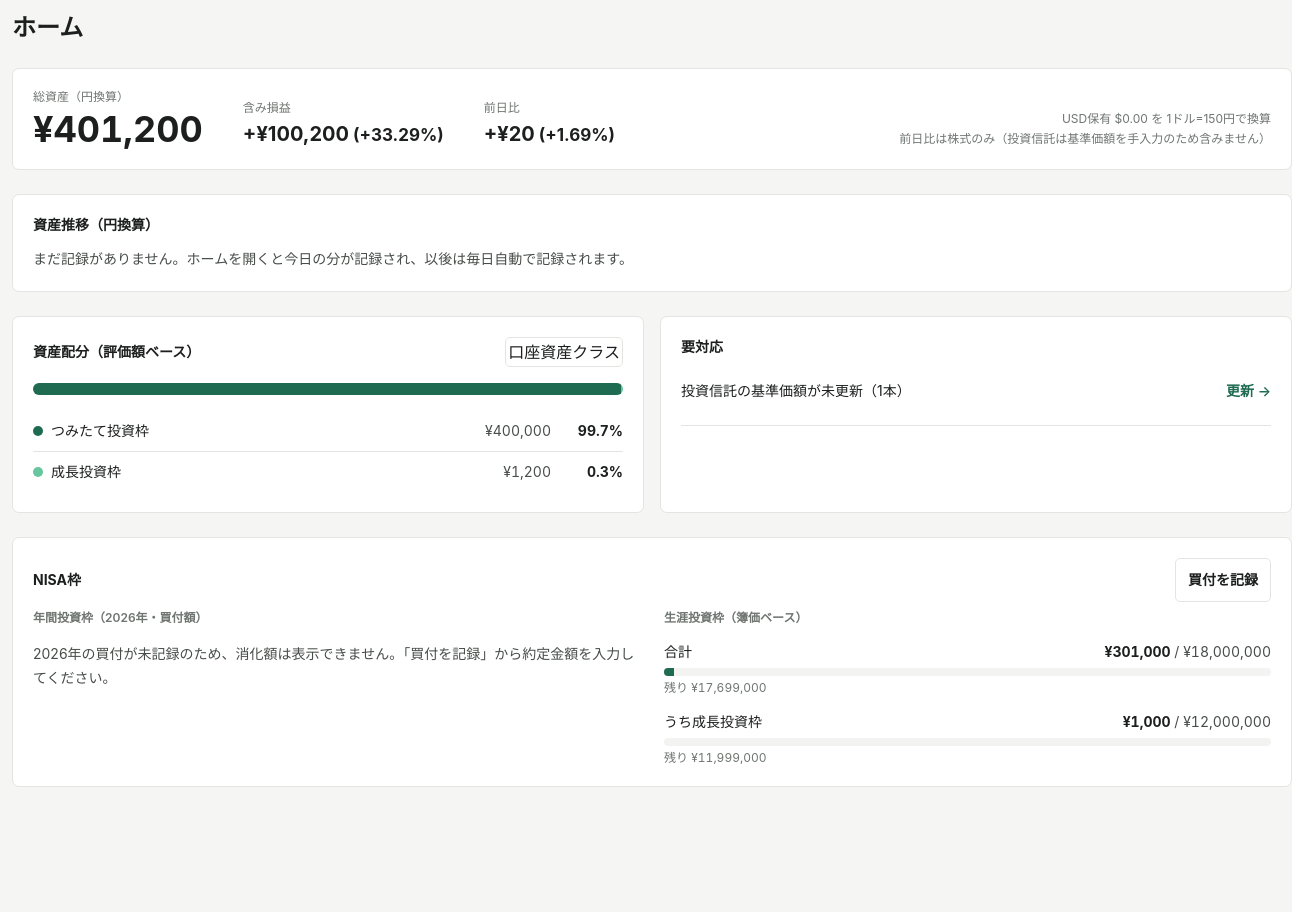
Test: HomeDashboard (Phase 2) › allocates by market value (not by count) and switches between account and asset class
Expected: the text "つみたて投資枠" is shown, [51,421,149,441]
Expected: the text "99.7%" is shown, [578,422,623,439]
Step 1. Click the button "資産クラス" → (580, 352), box [540,340,620,364]
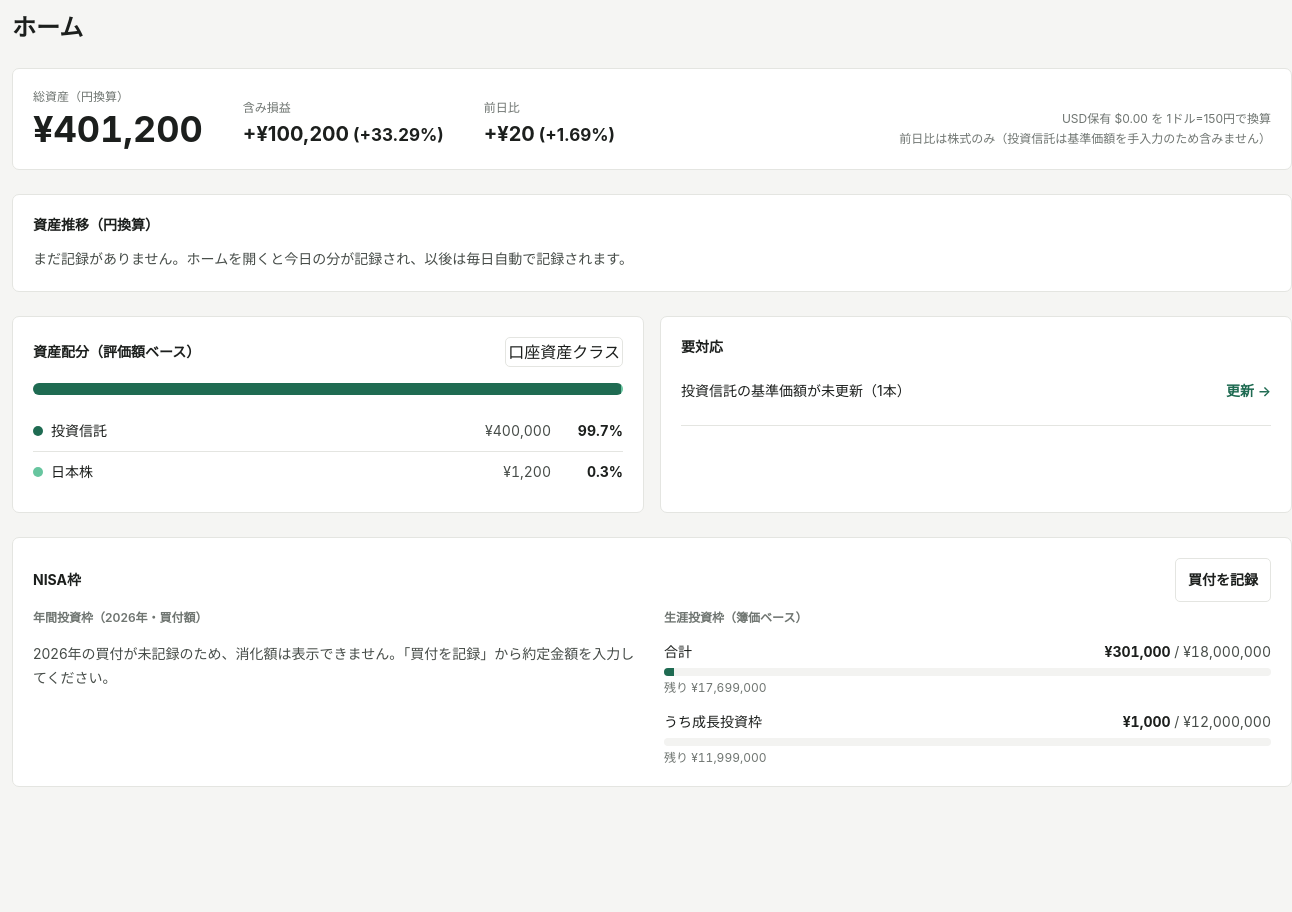
Result: the text "投資信託" is shown at [51,421,107,441]
Result: the text "日本株" is shown at [51,462,93,482]
Result: the text "つみたて投資枠" is gone
